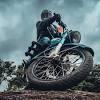helmet: (39, 8, 54, 20)
